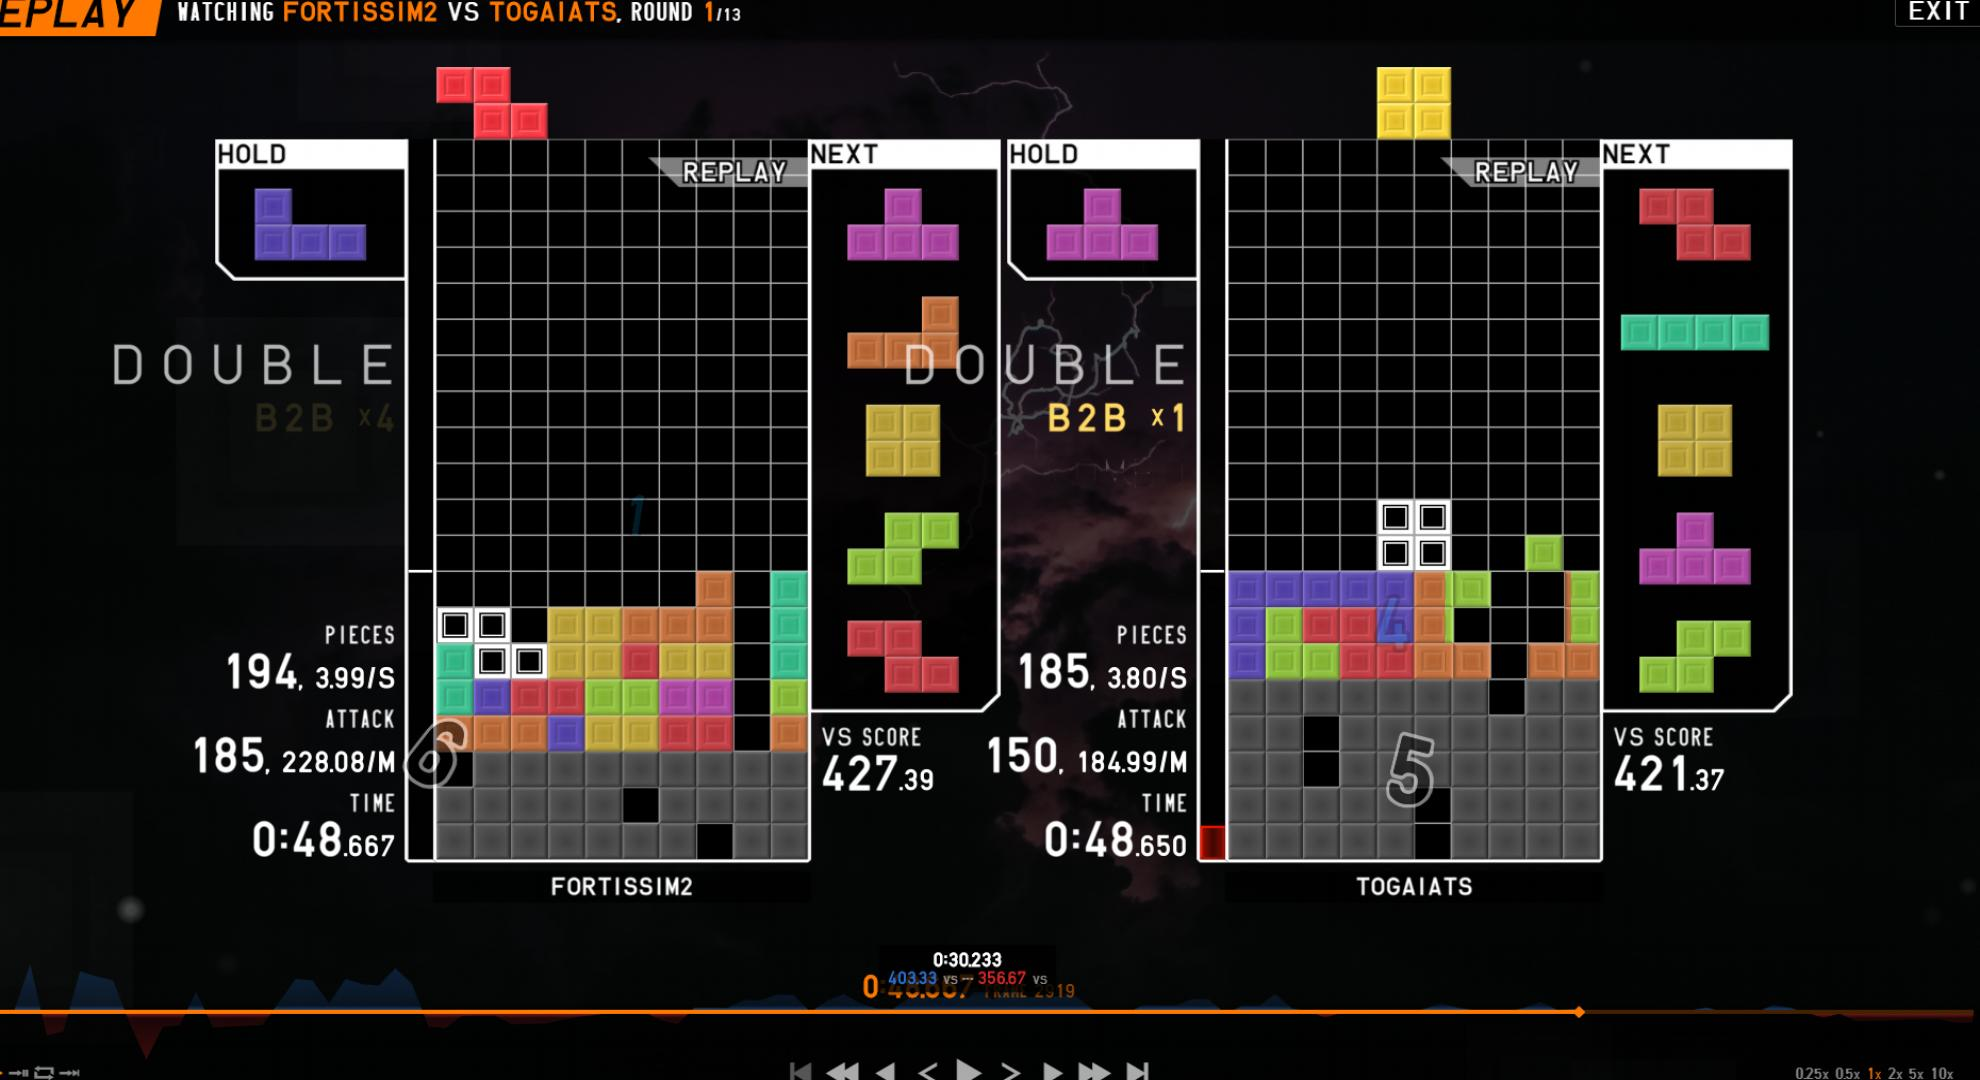tspin: (1445, 571, 1570, 678)
